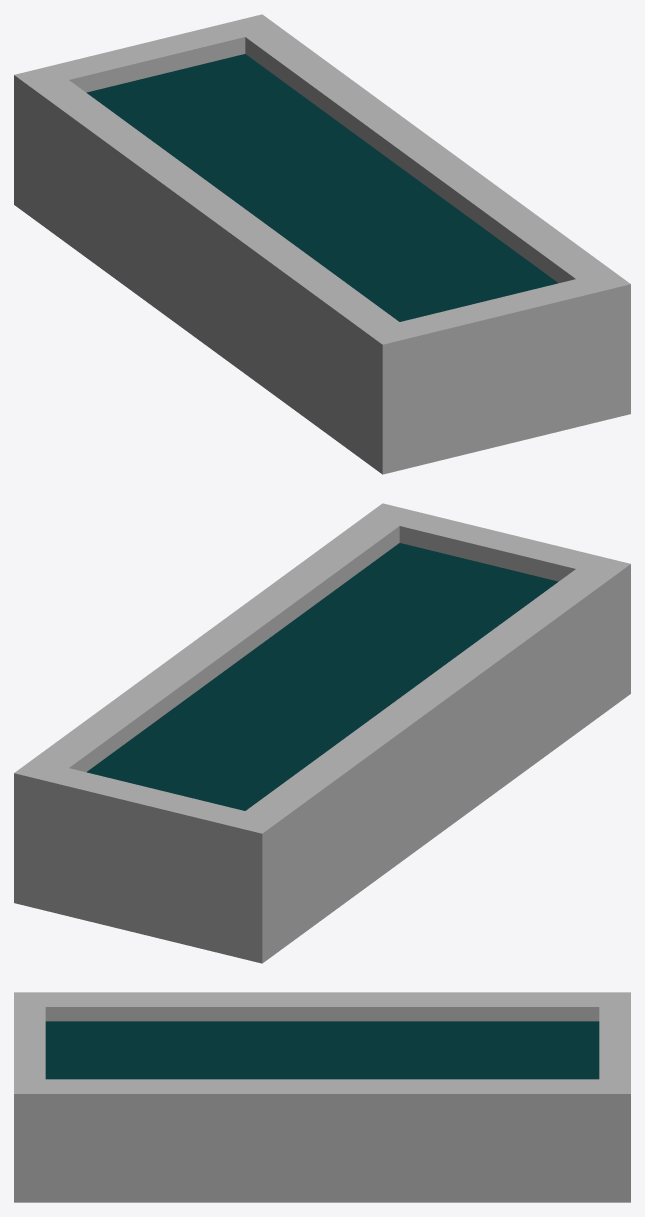
File: RABS_KestrelMk1_RCSThruster.glb
The picture shows the model from 3 angles, top to bottom: view 1: azimuth 30°, elevation 25°; view 2: azimuth 150°, elevation 25°; view 3: azimuth 270°, elevation 25°; orthographic projection. The views are drawn at different scales.
Parts seen in each view (by area): view 1: RCS; view 2: RCS; view 3: RCS.
Part boxes in pixels (bbox=[...]): RCS: bbox=[14, 14, 630, 474]; RCS: bbox=[14, 503, 630, 963]; RCS: bbox=[14, 992, 630, 1202].
Bounding box in the file's own units: 0.7 × 0.3499 × 1.8.
